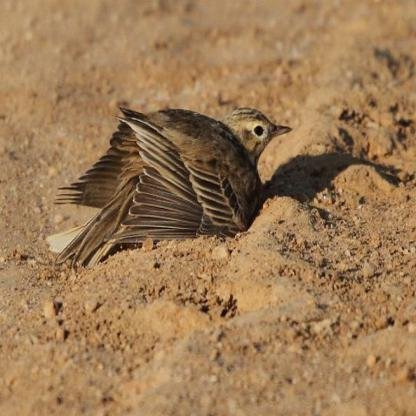Burung: (49, 105, 292, 278)
